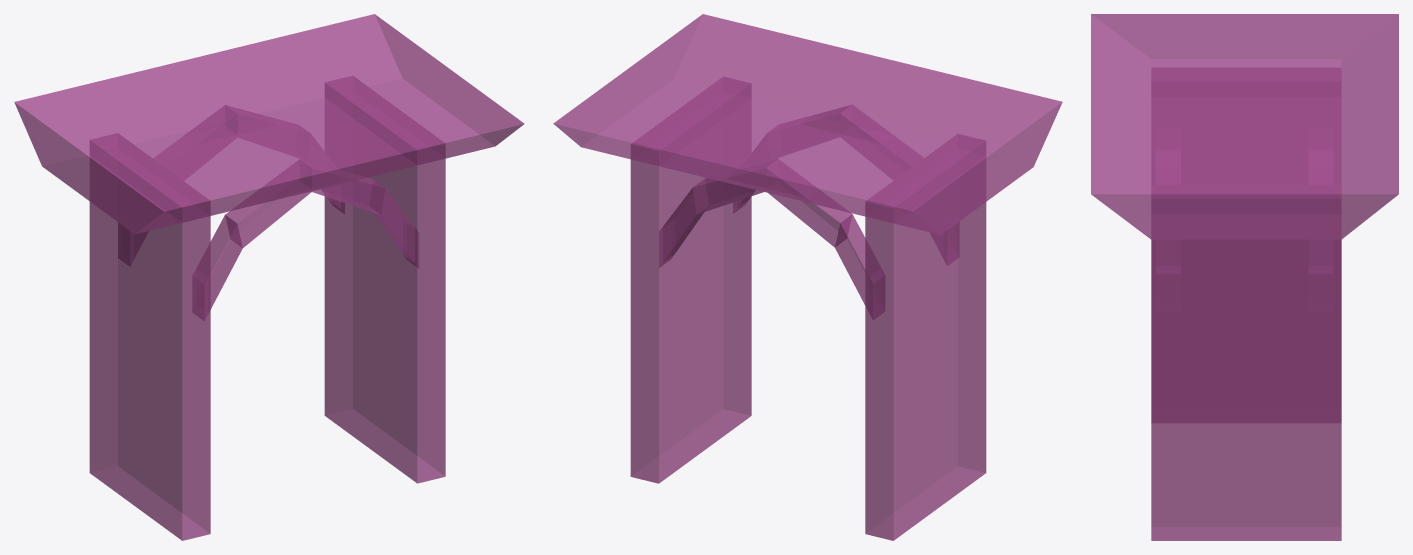
Rendered from SM_Prop_Trellis_01_Collision.fbx.
3 views of the same model, side by side, from view 1: azimuth 30°, elevation 25°; view 2: azimuth 150°, elevation 25°; view 3: azimuth 270°, elevation 25° (orthographic). The views are drawn at different scales.
Visible parts, largest first — view 1: SM_Prop_Trellis_01_Collision; view 2: SM_Prop_Trellis_01_Collision; view 3: SM_Prop_Trellis_01_Collision.
Part boxes in pixels (box(x1,y1,x2,y2)): SM_Prop_Trellis_01_Collision: box(14, 14, 524, 540); SM_Prop_Trellis_01_Collision: box(553, 14, 1062, 540); SM_Prop_Trellis_01_Collision: box(1091, 14, 1398, 540).
Bounding box in the file's own units: 299 × 287 × 215.
